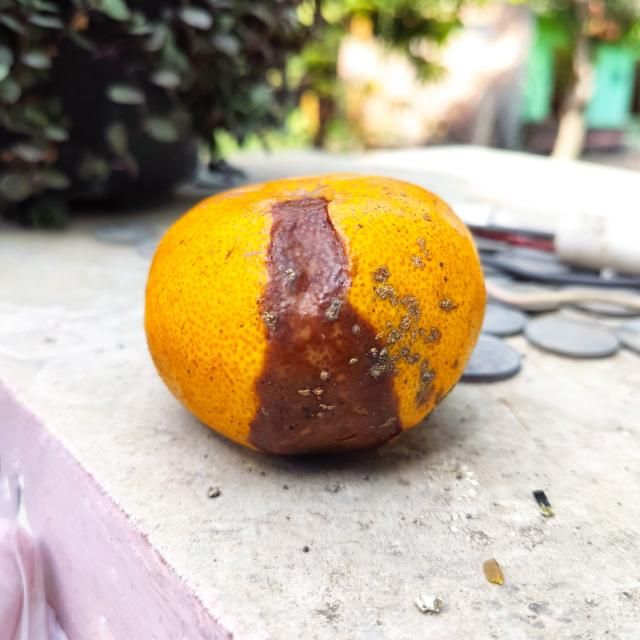orange: (141, 172, 489, 468)
